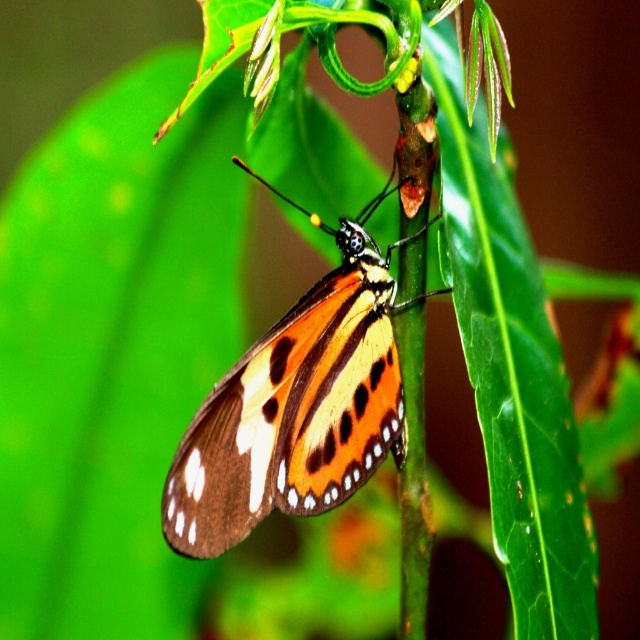Butterfly: (164, 165, 394, 556)
